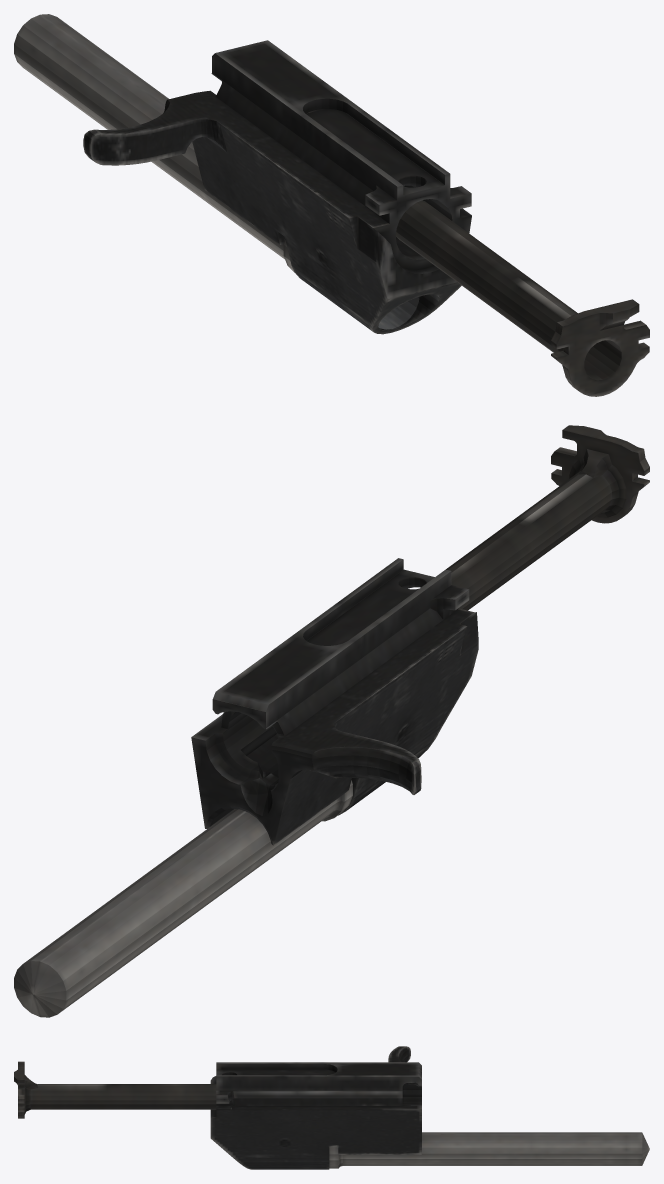
3 renders of one model, top to bottom at view 1: azimuth 30°, elevation 25°; view 2: azimuth 150°, elevation 25°; view 3: azimuth 270°, elevation 25°, orthographic. The views are drawn at different scales.
Parts seen in each view (by area): view 1: TW_57838ad32459774a17445cd2_PZ_Import; view 2: TW_57838ad32459774a17445cd2_PZ_Import; view 3: TW_57838ad32459774a17445cd2_PZ_Import.
Boxes of the visible parts, x1,y1,x2,y2 form: TW_57838ad32459774a17445cd2_PZ_Import: (14, 14, 649, 396); TW_57838ad32459774a17445cd2_PZ_Import: (14, 425, 649, 1017); TW_57838ad32459774a17445cd2_PZ_Import: (14, 1046, 649, 1169).
Bounding box in the file's own units: 0.0288 × 0.1343 × 0.0229.
1 material, 1 textured.
